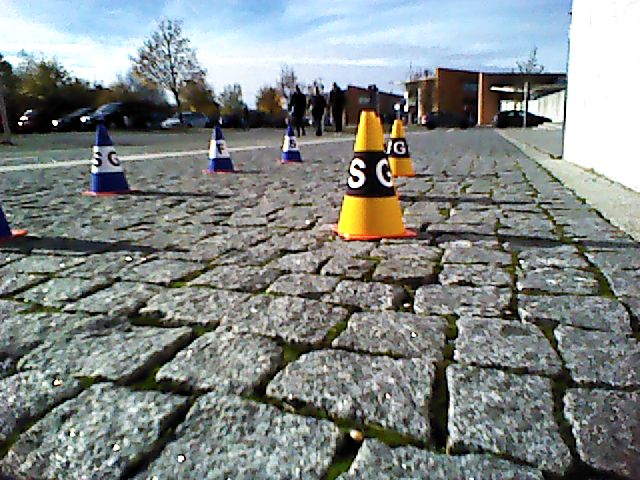bluecone: (91, 126, 125, 192), (207, 127, 234, 171), (281, 126, 302, 161)
yellowcone: (342, 111, 404, 233), (390, 120, 413, 174)
